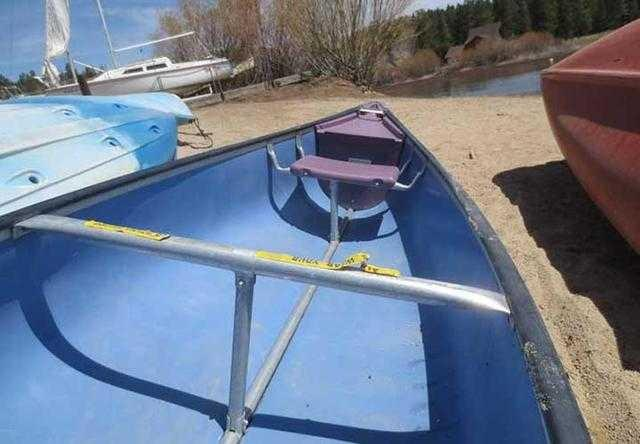kayak: (2, 100, 545, 440)
